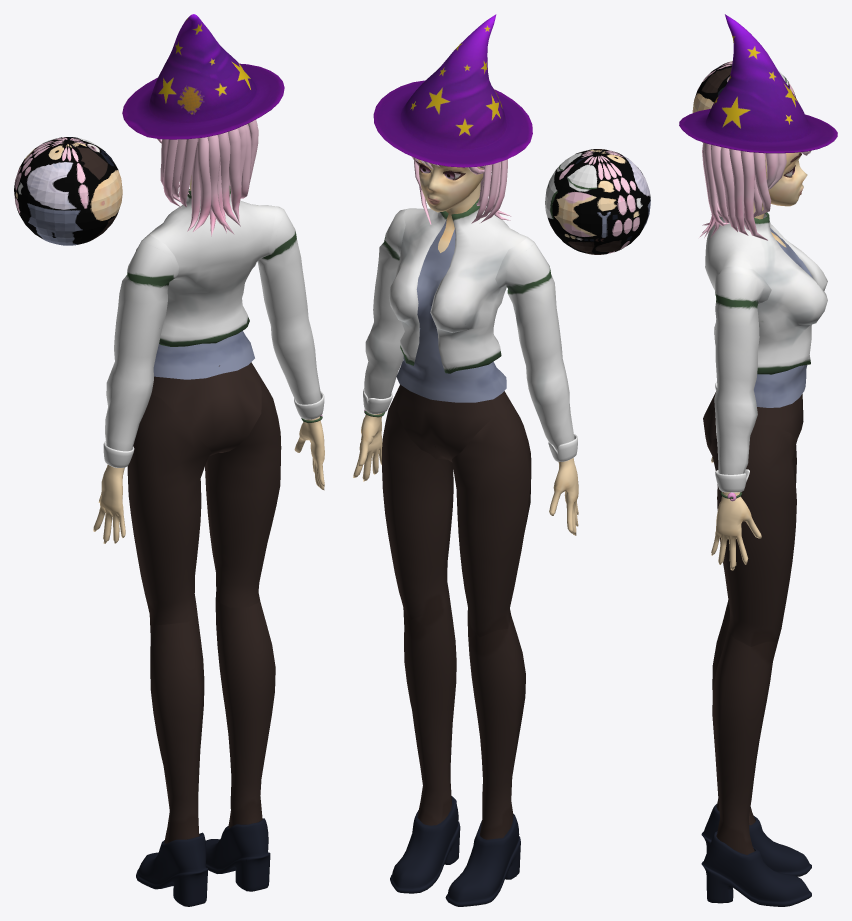
Rendered from Pier_Der.obj.
The picture shows the model from 3 angles, left to right: view 1: azimuth 30°, elevation 25°; view 2: azimuth 150°, elevation 25°; view 3: azimuth 270°, elevation 25°; orthographic projection. The views are drawn at different scales.
Parts seen in each view (by area): view 1: defaultMaterial, body_lp.008, body_lp.007, Brazo_I, Sphere, jacket_lp.002; view 2: defaultMaterial, body_lp.008, body_lp.007, Brazo_I, Sphere, jacket_lp.002; view 3: defaultMaterial, body_lp.007, jacket_lp.002, body_lp.008, Sphere.
Boxes of the visible parts, left/top/right/bottom form: defaultMaterial: left=122, top=14, right=284, bottom=455; body_lp.008: left=127, top=394, right=211, bottom=906; body_lp.007: left=205, top=372, right=281, bottom=891; Brazo_I: left=93, top=234, right=178, bottom=543; Sphere: left=14, top=137, right=122, bottom=245; jacket_lp.002: left=257, top=206, right=324, bottom=490; defaultMaterial: left=373, top=14, right=532, bottom=462; body_lp.008: left=445, top=402, right=531, bottom=906; body_lp.007: left=382, top=390, right=460, bottom=893; Brazo_I: left=495, top=237, right=578, bottom=535; Sphere: left=545, top=149, right=650, bottom=254; jacket_lp.002: left=353, top=208, right=408, bottom=481; defaultMaterial: left=679, top=14, right=837, bottom=449; body_lp.007: left=701, top=424, right=811, bottom=906; jacket_lp.002: left=711, top=266, right=771, bottom=570; body_lp.008: left=701, top=445, right=811, bottom=876; Sphere: left=692, top=61, right=795, bottom=142.
Bounding box in the file's own units: 5.42 × 15.37 × 2.58.
2 materials, 2 textured.
